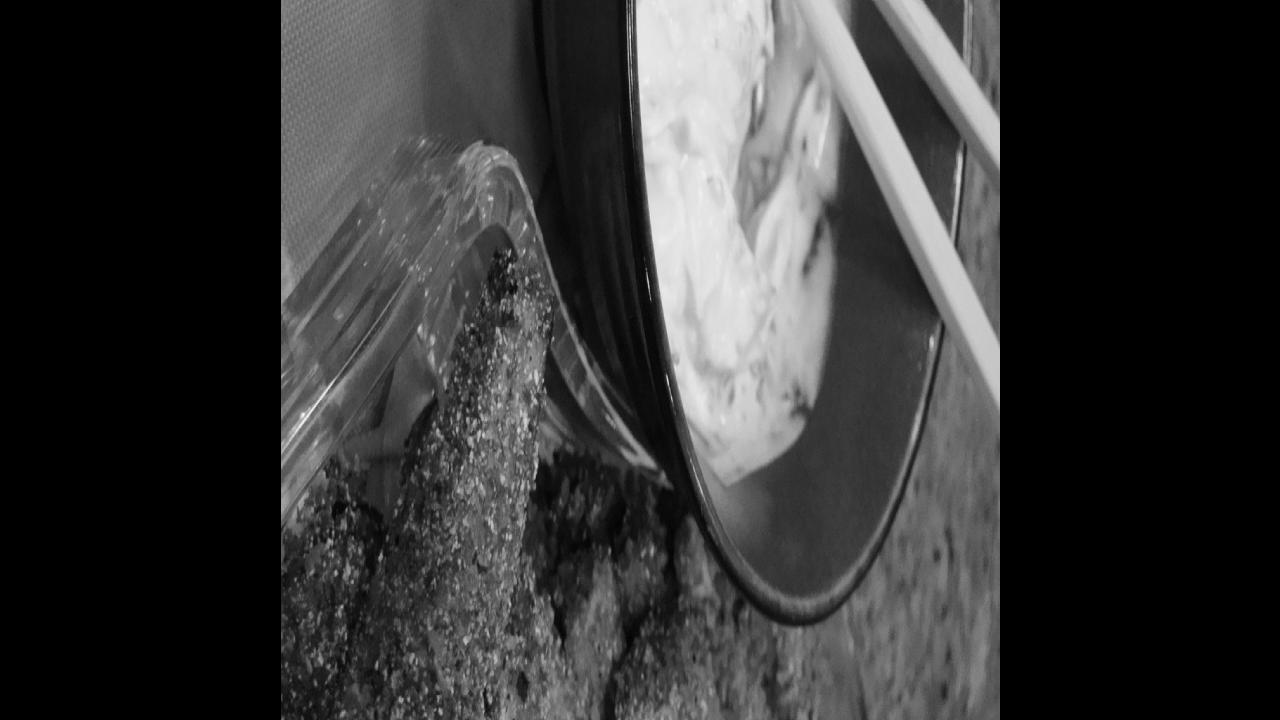chopstick: (769, 0, 1000, 420)
